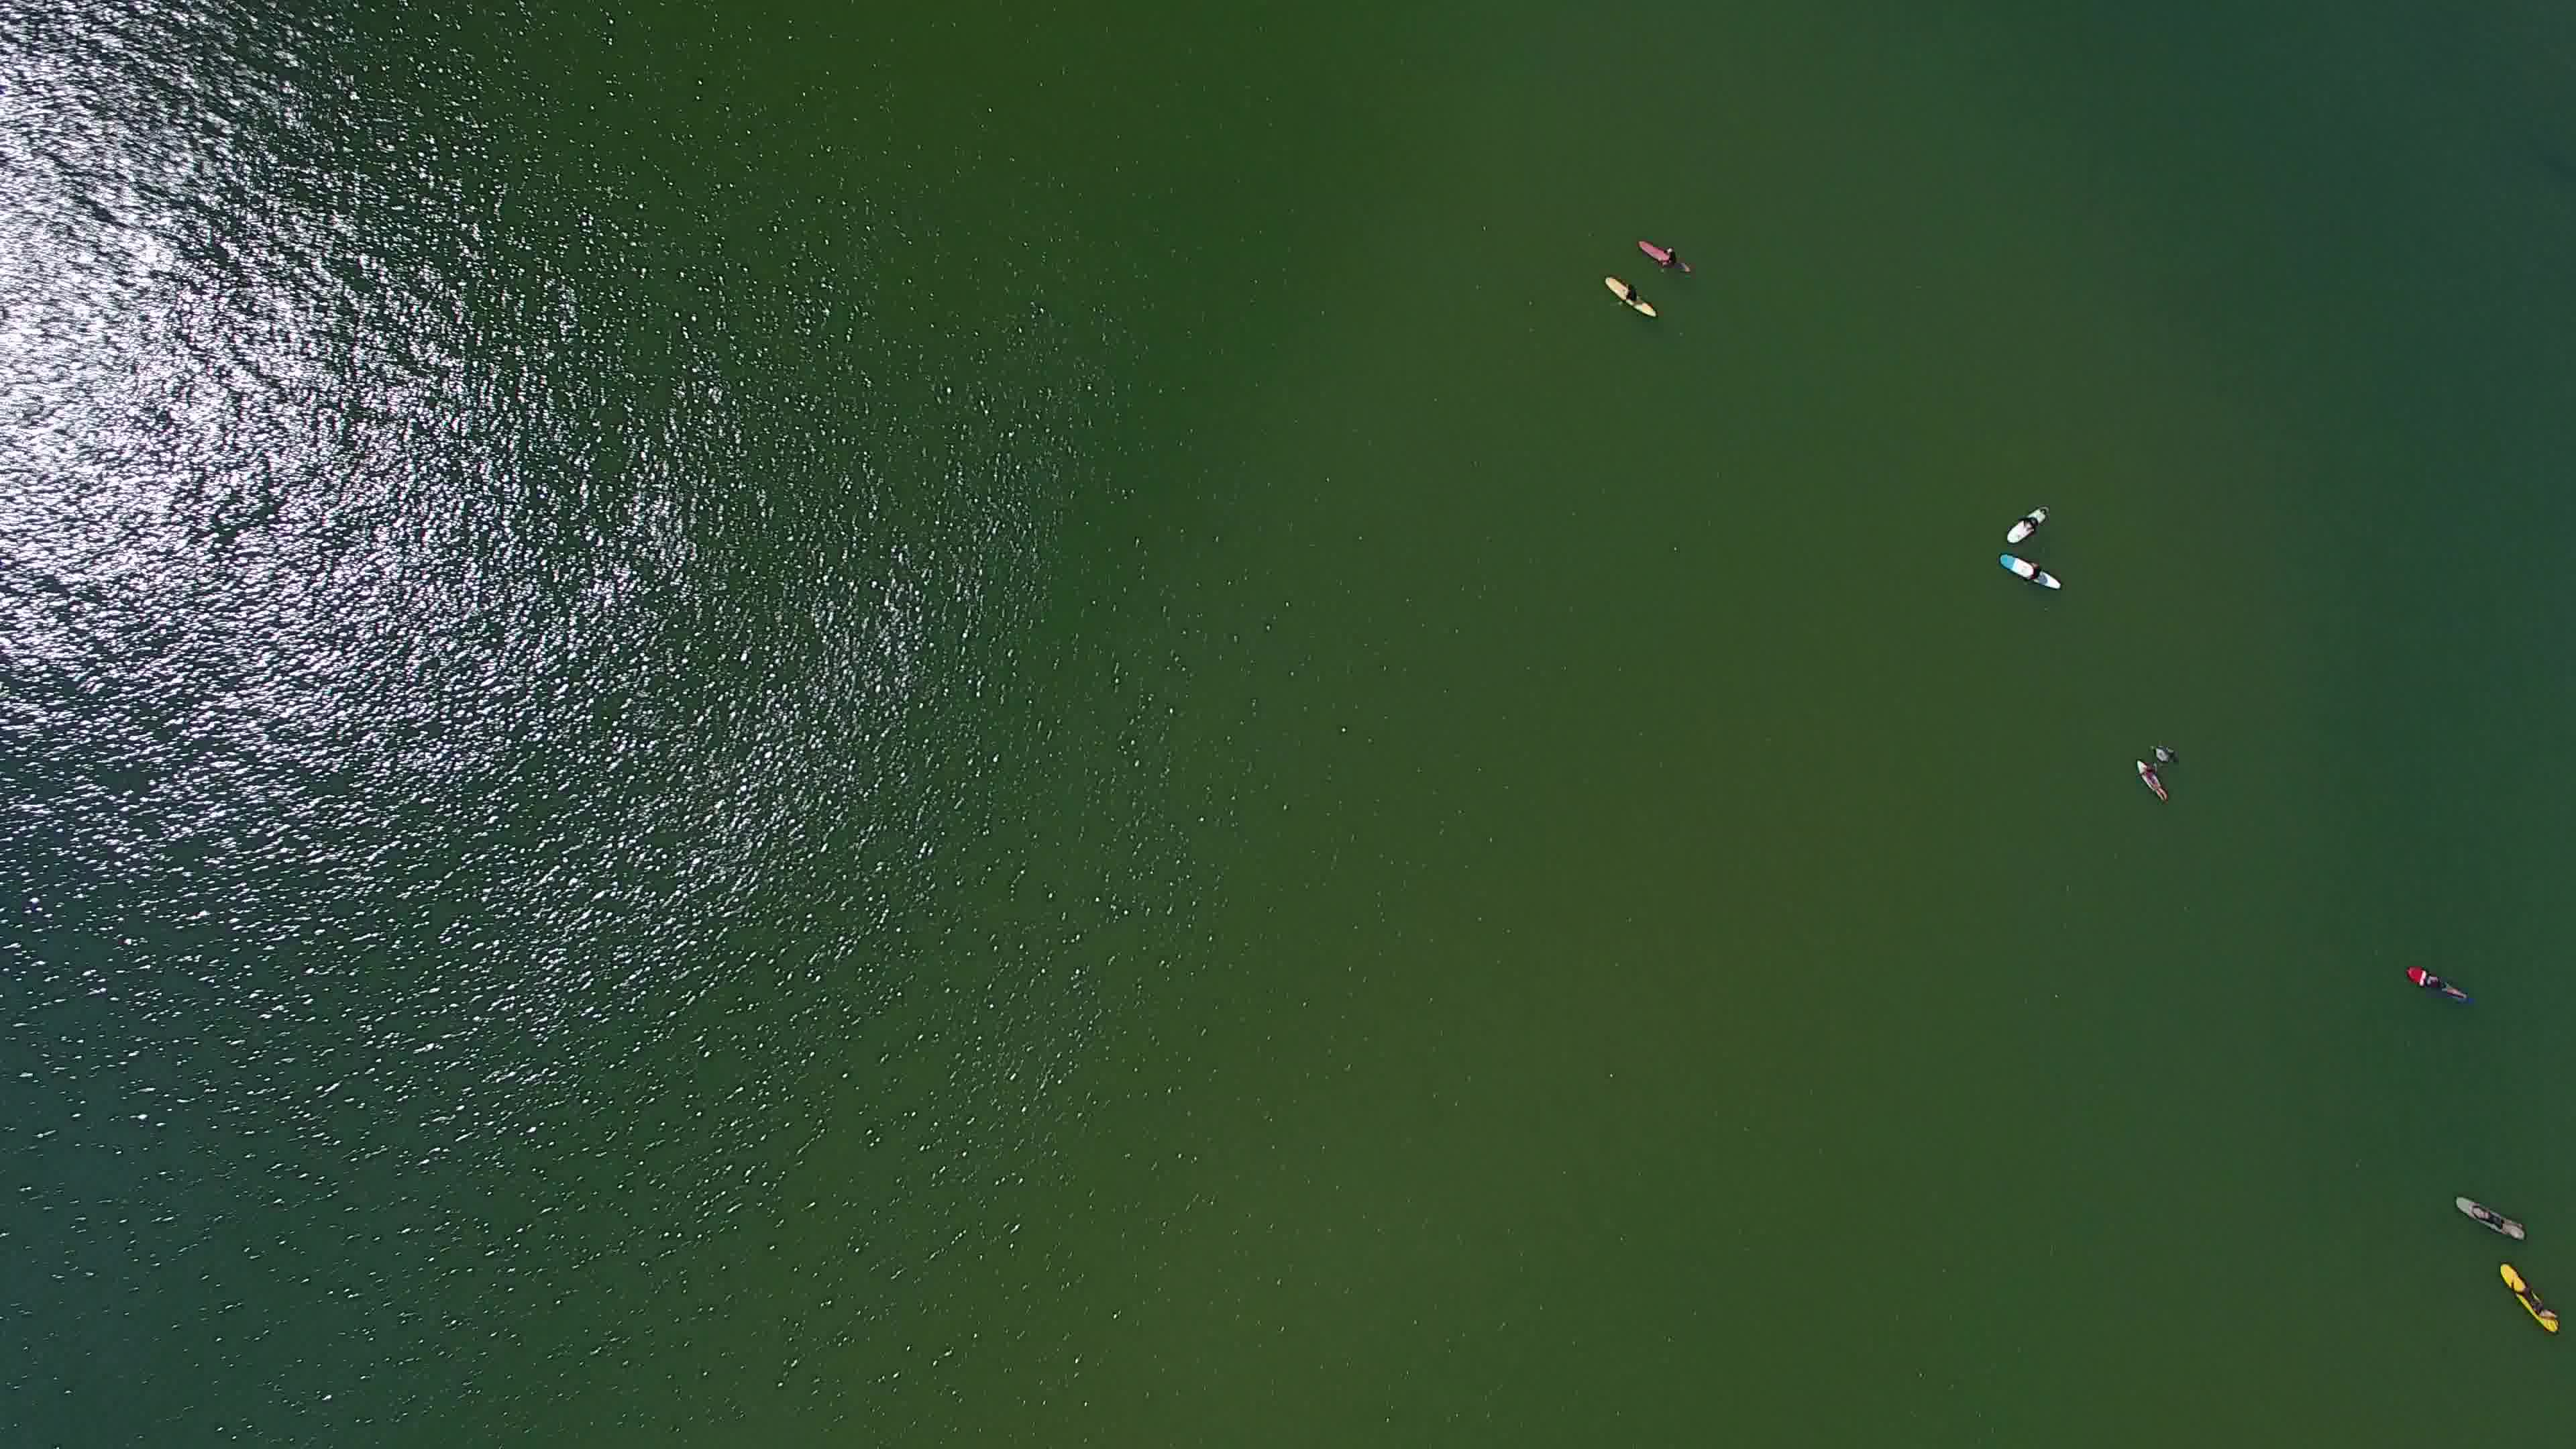surfer: (2493, 1261, 2565, 1341), (2450, 1187, 2534, 1244), (1596, 264, 1667, 320), (1983, 550, 2068, 596), (1633, 228, 1702, 280), (2404, 961, 2473, 1007), (2135, 755, 2181, 809), (2001, 501, 2049, 548), (2150, 741, 2187, 770)
